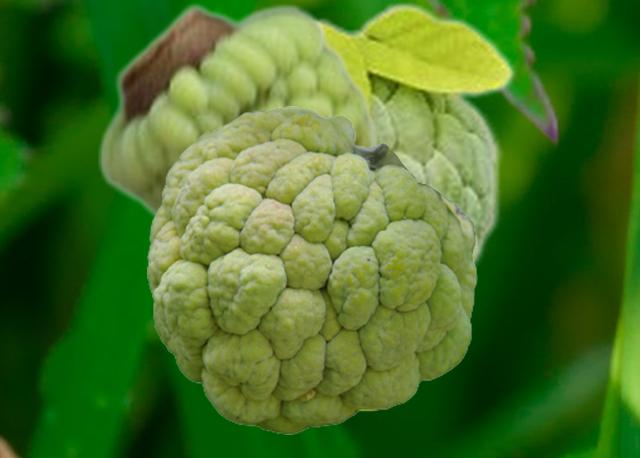atis: (147, 106, 476, 433), (98, 1, 379, 216), (317, 0, 516, 268)
